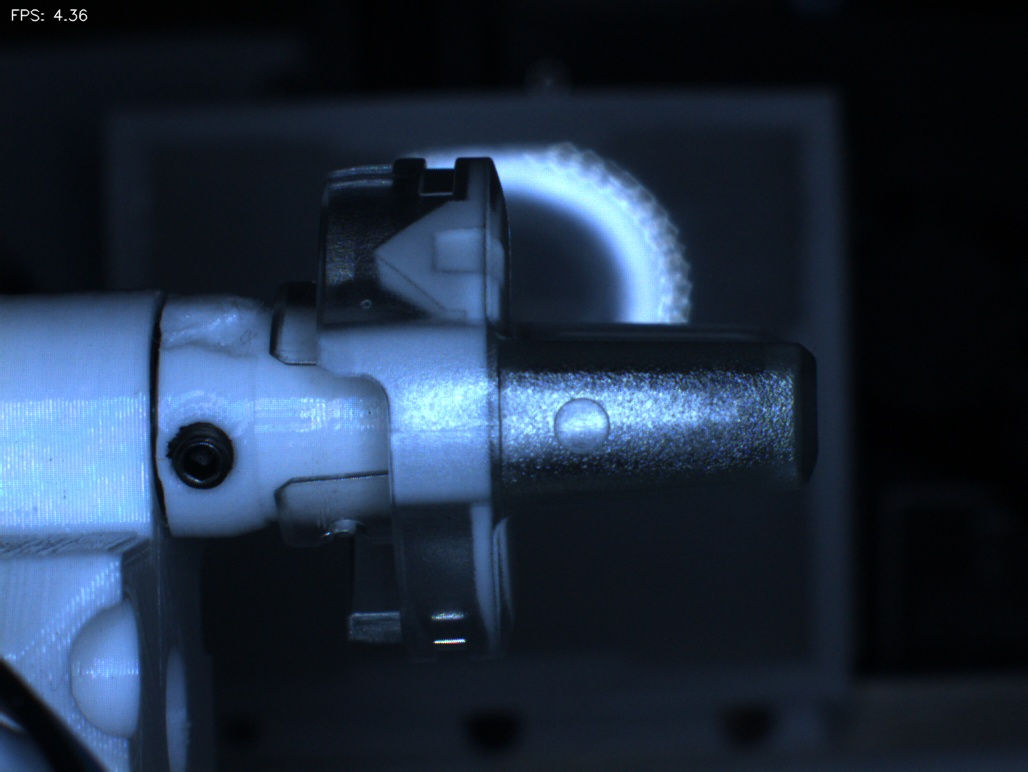DentOk: (344, 213, 419, 309)
